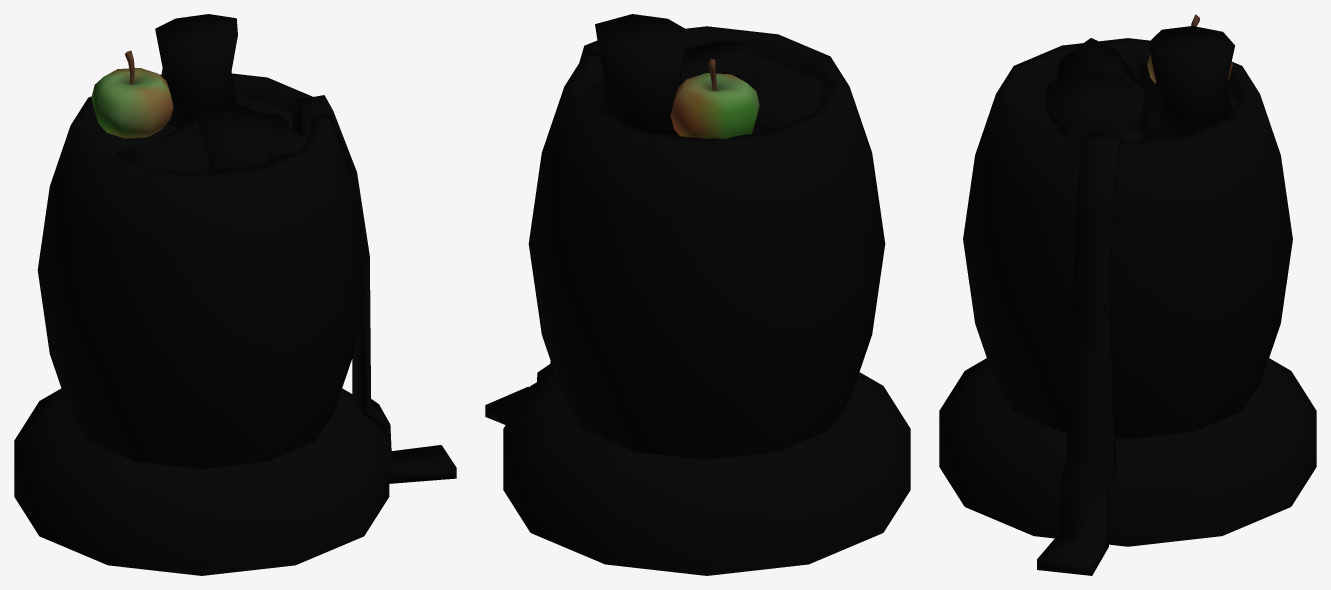
The model's file is barrel.fbx.
3 renders of one model, left to right at view 1: azimuth 30°, elevation 25°; view 2: azimuth 150°, elevation 25°; view 3: azimuth 270°, elevation 25°, orthographic. The views are drawn at different scales.
Visible parts, largest first — view 1: barrel_lp.002; view 2: barrel_lp.002; view 3: barrel_lp.002.
Part boxes in pixels (<box>): barrel_lp.002: <box>14,14,456,575</box>; barrel_lp.002: <box>485,14,910,575</box>; barrel_lp.002: <box>939,14,1316,575</box>.
Size of the model in its own units: 1.17 by 1.27 by 0.9882.
